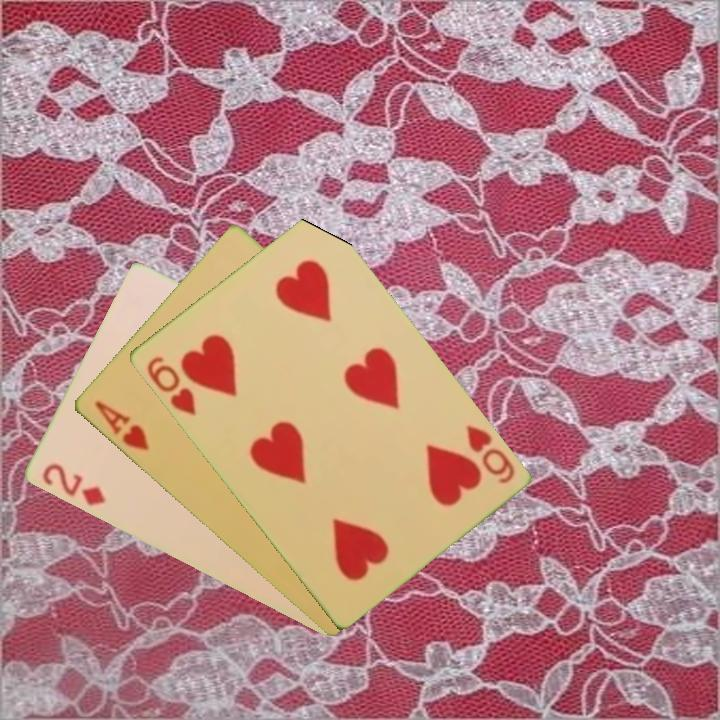2d: (38, 459, 108, 509)
6h: (142, 352, 199, 419), (462, 421, 518, 487)
Ah: (90, 397, 152, 454)
